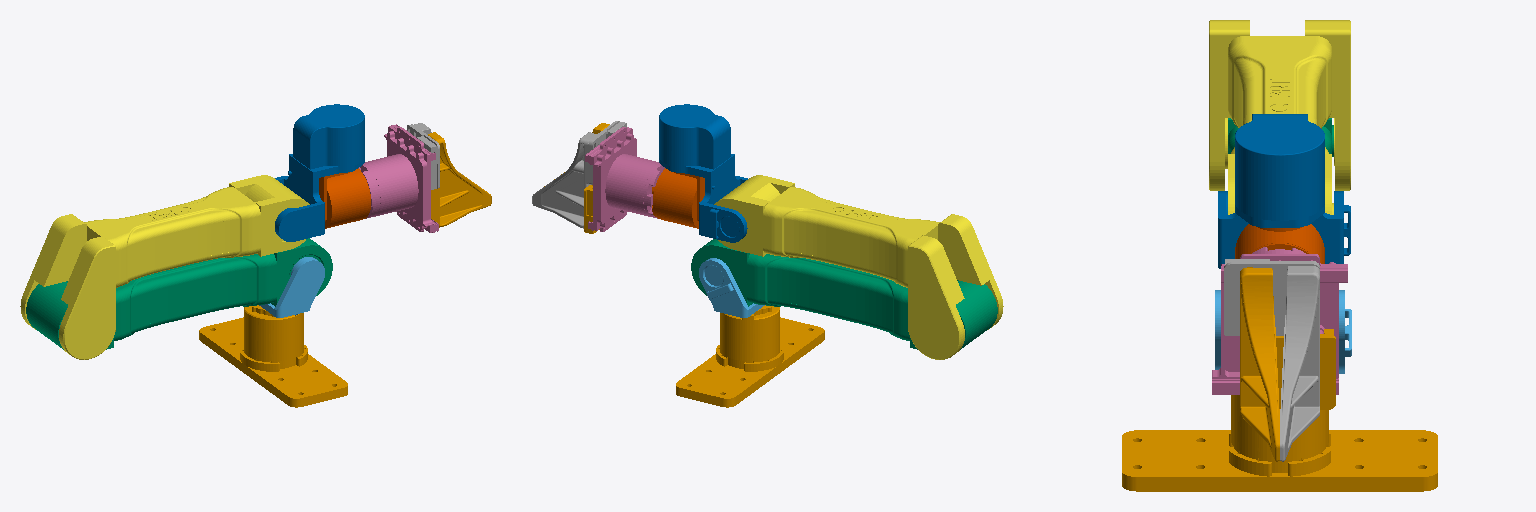
URDF robot description (i2rt_yam):
<?xml version="1.0" ?>
<robot name="i2rt_yam">
   <!--generated with mjcf_urdf_simple_converter (https://github.com/Yasu31/mjcf_urdf_simple_converter)-->
   <!-- Further modified by https://github.com/stonet2000 to be simulation ready / maniskill compatible -->
   <link name="arm">
      <inertial>
         <origin xyz="0.0 0.0 0.026" rpy="0.0 0.0 0.0"/>
         <mass value="0.21895644158459424"/>
         <inertia ixx="0.00013879124248906134" iyy="0.00013879124248906134" izz="0.00010282878735692499" ixy="0" ixz="0" iyz="0"/>
      </inertial>
      <visual name="arm_visual">
         <!-- z-value was originally 0.01154286287615687 -->
         <origin xyz="-2.0738360577213484e-05 2.041311002275178e-05 0.023085726" rpy="1.5701130102263443 0.005344186766800929 -3.1414365496107033"/>
         <geometry>
            <mesh filename="meshes/arm.obj"/>
         </geometry>
      </visual>
      <collision name="arm_collision">
         <origin xyz="-2.0738360577213484e-05 2.041311002275178e-05 0.023085726" rpy="0 0.005344186766800929 -3.1414365496107033"/>
         <geometry>
            <cylinder radius="0.033" length="0.097728589"/>
         </geometry>
      </collision>
   </link>
   <link name="link_1">
      <inertial>
         <origin xyz="-0.00192861 -0.00795735 0.0208176" rpy="1.6743480392523336 -0.6015439689011489 1.5666873963753192"/>
         <mass value="0.12415"/>
         <inertia ixx="0.000180751" iyy="0.000145532" izz="5.89179e-05" ixy="0" ixz="0" iyz="0"/>
      </inertial>
      <visual name="link_1_visual">
         <origin xyz="0.0007117901440024366 -0.008267794027987337 0.022250179687008112" rpy="1.5650454550240567 -0.6317582807873866 1.5710673633815686"/>
         <geometry>
            <mesh filename="meshes/link_1.obj"/>
         </geometry>
      </visual>
      <collision name="link_1_collision">
         <origin xyz="0.0007117901440024366 -0.008267794027987337 0.022250179687008112" rpy="1.5650454550240567 -0.6317582807873866 1.5710673633815686"/>
         <geometry>
            <mesh filename="meshes/link_1.obj"/>
         </geometry>
      </collision>
   </link>
   <joint type="revolute" name="joint1">
      <parent link="arm"/>
      <child link="link_1"/>
      <origin xyz="0.0 0.0 0.074642863" rpy="0.0 0.0 1.5707963267948963"/>
      <axis xyz="0.0 0.0 1.0"/>
      <limit lower="-2.61799" upper="3.05433" effort="100" velocity="100"/>
   </joint>
   <link name="link_2">
      <inertial>
         <origin xyz="0.132008 2.10599e-06 0.000293073" rpy="1.5707963267948966 0.0 1.5707963267948966"/>
         <mass value="1.24434"/>
         <inertia ixx="0.0121902" iyy="0.0121318" izz="0.000683304" ixy="0" ixz="0" iyz="0"/>
      </inertial>
      <visual name="link_2_visual_1">
         <origin xyz="0.26007948449650414 2.5977632368834325e-07 0.00022869283697025413" rpy="0.0012886015838013964 0.0 1.5707963267948966"/>
         <geometry>
            <mesh filename="meshes/link_2_1.obj"/>
         </geometry>
      </visual>
      <visual name="link_2_visual_2">
         <origin xyz="0.003920561027152974 2.5977629421192194e-07 0.00022869282878015162" rpy="-0.0012886020855807923 0.0 1.5707963267948966"/>
         <geometry>
            <mesh filename="meshes/link_2_2.obj"/>
         </geometry>
      </visual>
      <visual name="link_2_visual_3">
         <origin xyz="0.1320117461361114 -1.306943646950387e-05 9.079293692478702e-08" rpy="1.5720341600620278 -1.5679213575591913 -1.5720413321414013"/>
         <geometry>
            <mesh filename="meshes/link_2_3.obj"/>
         </geometry>
      </visual>
      <collision name="link_2_collision_1">
         <origin xyz="0.26007948449650414 2.5977632368834325e-07 0.00022869283697025413" rpy="0.0012886015838013964 0.0 1.5707963267948966"/>
         <geometry>
            <mesh filename="meshes/link_2_1.obj"/>
         </geometry>
      </collision>
      <collision name="link_2_collision_2">
         <origin xyz="0.003920561027152974 2.5977629421192194e-07 0.00022869282878015162" rpy="-0.0012886020855807923 0.0 1.5707963267948966"/>
         <geometry>
            <mesh filename="meshes/link_2_2.obj"/>
         </geometry>
      </collision>
      <collision name="link_2_collision_3">
         <origin xyz="0.1320117461361114 -1.306943646950387e-05 9.079293692478702e-08" rpy="1.5720341600620278 -1.5679213575591913 -1.5720413321414013"/>
         <geometry>
            <mesh filename="meshes/link_2_3.obj"/>
         </geometry>
      </collision>
   </link>
   <joint type="revolute" name="joint2">
      <parent link="link_1"/>
      <child link="link_2"/>
      <origin xyz="2.5e-05 -0.02 0.0409" rpy="1.5707963267948966 0.0 1.5707963267948966"/>
      <axis xyz="0.0 0.0 1.0"/>
      <limit lower="0.0" upper="3.66519" effort="100" velocity="100"/>
   </joint>
   <link name="link_3">
      <inertial>
         <origin xyz="-0.121816 -0.054846 -0.000111108" rpy="1.5707963267948966 0.0 1.5707963267948966"/>
         <mass value="0.853698"/>
         <inertia ixx="0.00699732" iyy="0.00696112" izz="0.000788244" ixy="0" ixz="0" iyz="0"/>
      </inertial>
      <visual name="link_3_visual_1">
         <origin xyz="-0.24063976713274154 -0.059999782142154706 -0.003760273578300405" rpy="3.0364915071378875 0.0 -1.570796326794897"/>
         <geometry>
            <mesh filename="meshes/link_3_1.obj"/>
         </geometry>
      </visual>
      <visual name="link_3_visual_2">
         <origin xyz="-0.007710009148021196 -0.03486048010433765 0.0347071645682882" rpy="-2.8787900674372295 1.4720957652931412 1.6013719605643308"/>
         <geometry>
            <mesh filename="meshes/link_3_2.obj"/>
         </geometry>
      </visual>
      <visual name="link_3_visual_3">
         <origin xyz="-0.1206720859561709 -0.06001334031535149 5.408345552423209e-07" rpy="1.5707945314613085 0.0026832997041226214 -1.570809065297576"/>
         <geometry>
            <mesh filename="meshes/link_3_3.obj"/>
         </geometry>
      </visual>
      <visual name="link_3_visual_4">
         <origin xyz="-0.008240431625057998 -0.03737256683266851 -0.033699619180835645" rpy="0.2883614312261503 1.443690062944694 -1.515041718980295"/>
         <geometry>
            <mesh filename="meshes/link_3_4.obj"/>
         </geometry>
      </visual>
      <collision name="link_3_collision_1">
         <origin xyz="-0.24063976713274154 -0.059999782142154706 -0.003760273578300405" rpy="3.0364915071378875 0.0 -1.570796326794897"/>
         <geometry>
            <mesh filename="meshes/link_3_1.obj"/>
         </geometry>
      </collision>
      <collision name="link_3_collision_2">
         <origin xyz="-0.007710009148021196 -0.03486048010433765 0.0347071645682882" rpy="-2.8787900674372295 1.4720957652931412 1.6013719605643308"/>
         <geometry>
            <mesh filename="meshes/link_3_2.obj"/>
         </geometry>
      </collision>
      <collision name="link_3_collision_3">
         <origin xyz="-0.1206720859561709 -0.06001334031535149 5.408345552423209e-07" rpy="1.5707945314613085 0.0026832997041226214 -1.570809065297576"/>
         <geometry>
            <mesh filename="meshes/link_3_3.obj"/>
         </geometry>
      </collision>
      <collision name="link_3_collision_4">
         <origin xyz="-0.008240431625057998 -0.03737256683266851 -0.033699619180835645" rpy="0.2883614312261503 1.443690062944694 -1.515041718980295"/>
         <geometry>
            <mesh filename="meshes/link_3_4.obj"/>
         </geometry>
      </collision>
   </link>
   <joint type="revolute" name="joint3">
      <parent link="link_2"/>
      <child link="link_3"/>
      <origin xyz="0.264 0.0 0.0" rpy="3.141592653589793 0.0 0.0"/>
      <axis xyz="0.0 0.0 1.0"/>
      <limit lower="0.0" upper="3.66519" effort="100" velocity="100"/>
   </joint>
   <link name="link_4">
      <inertial>
         <origin xyz="-0.0769778 -0.0527104 0.000154878" rpy="1.5707963267948966 0.0 -0.6801532411309218"/>
         <mass value="0.463511"/>
         <inertia ixx="0.000791532" iyy="0.000744733" izz="0.000282116" ixy="0" ixz="0" iyz="0"/>
      </inertial>
      <visual name="link_4_visual">
         <origin xyz="-0.046776068687813616 -0.038270471745625256 -0.0008915243508352188" rpy="1.5394854457020646 0.021662003917253037 -0.7117475435376934"/>
         <geometry>
            <mesh filename="meshes/link_4.obj"/>
         </geometry>
      </visual>
      <collision name="link_4_collision">
         <origin xyz="-0.073 -0.067 0.0" rpy="1.5707963267948966 0.0 0.0"/>
         <geometry>
            <cylinder radius="0.03" length="0.05"/>
         </geometry>
      </collision>
   </link>
   <joint type="revolute" name="joint4">
      <parent link="link_3"/>
      <child link="link_4"/>
      <origin xyz="-0.245 -0.06 0.0" rpy="0.0 0.0 0.0"/>
      <axis xyz="0.0 0.0 1.0"/>
      <limit lower="-1.5708" upper="1.5708" effort="100" velocity="100"/>
   </joint>
   <link name="link_5">
      <inertial>
         <origin xyz="3.64861e-05 0.00025665 0.0353526" rpy="0.0 0.0 0.0"/>
         <mass value="0.350962"/>
         <inertia ixx="0.000197802" iyy="0.0001775" izz="0.000147402" ixy="0" ixz="0" iyz="0"/>
      </inertial>
      <visual name="link_5_visual">
         <origin xyz="5.815639855540116e-05 -0.0005553836621680353 0.03206235288381598" rpy="2.67318045036048 0.0016544870659682687 -0.011529382184967352"/>
         <geometry>
            <mesh filename="meshes/link_5.obj"/>
         </geometry>
      </visual>
      <collision name="link_5_collision">
         <origin xyz="0.0 0.0 0.0395" rpy="1.5707963267948966 0.0 0.0"/>
         <geometry>
            <cylinder radius="0.03" length="0.05"/>
         </geometry>
      </collision>
   </link>
   <joint type="revolute" name="joint5">
      <parent link="link_4"/>
      <child link="link_5"/>
      <origin xyz="-0.074 -0.0395 2.5e-05" rpy="-1.5707963267948966 1.5707963267948966 0.0"/>
      <axis xyz="0.0 0.0 1.0"/>
      <limit lower="-1.5708" upper="1.5708" effort="100" velocity="100"/>
   </joint>
   <link name="link_6">
      <inertial>
         <origin xyz="-0.000217767 7.37059e-05 0.0270545" rpy="1.5707963267948963 0.0 0.0"/>
         <mass value="0.367476"/>
         <inertia ixx="0.000265958" iyy="0.000242686" izz="0.000227409" ixy="0" ixz="0" iyz="0"/>
      </inertial>
      <visual name="link_6_visual">
         <origin xyz="8.788302043375991e-05 0.0001190912220788709 0.05116721790419726" rpy="-1.745366888758472 1.5654909718508199 -1.969912540567698"/>
         <geometry>
            <mesh filename="meshes/link_6_1.obj"/>
         </geometry>
      </visual>
      <visual name="link_6_visual">
         <origin xyz="-0.00017825474995774047 1.6195054943213272e-05 0.03422382038141725" rpy="-1.5799559470247644 0.8170286688385331 -0.14641337505452368"/>
         <geometry>
            <mesh filename="meshes/link_6_2.obj"/>
         </geometry>
      </visual>
      <collision name="link_6_collision">
         <!-- <origin xyz="8.788302043375991e-05 0.0001190912220788709 0.05116721790419726" rpy="-1.745366888758472 1.5654909718508199 -1.969912540567698"/>
         <geometry>
            <mesh filename="meshes/converted_model2__12_404040ff.obj"/>
         </geometry> -->
         <origin xyz="0.0 0.0 0.017" rpy="0 0.0 0.0"/>
         <geometry>
            <cylinder radius="0.03" length="0.055"/>
         </geometry>
      </collision>
      <!-- this is internal -->
      <!-- <collision name="link_6_collision">
         <origin xyz="-0.00017825474995774047 1.6195054943213272e-05 0.03422382038141725" rpy="-1.5799559470247644 0.8170286688385331 -0.14641337505452368"/>
         <geometry>
            <mesh filename="meshes/converted_model2__13_404040ff.obj"/>
         </geometry>
      </collision> -->
   </link>
   <joint type="revolute" name="joint6">
      <parent link="link_5"/>
      <child link="link_6"/>
      <origin xyz="0.0 0.0353 0.0395" rpy="-1.5707963267948957 0.0 0.0"/>
      <axis xyz="0.0 0.0 1.0"/>
      <limit lower="-2.0944" upper="2.0944" effort="100" velocity="100"/>
   </joint>
   <link name="link_left_finger">
      <inertial>
         <origin xyz="-0.0192995 -0.0365902 0.039774" rpy="1.401155911297378 -0.506095322833723 -0.42940521230428"/>
         <mass value="0.118"/>
         <inertia ixx="0.000159084" iyy="0.000154909" izz="4.63655e-05" ixy="0" ixz="0" iyz="0"/>
      </inertial>
      <visual name="link_left_finger_visual_1">
         <origin xyz="-0.02621919095860112 -0.050961301789609365 0.04847966761952425" rpy="1.2436149090470108 -1.3351755324428625 3.1192068678405445"/>
         <geometry>
            <mesh filename="meshes/link_left_finger_1.obj"/>
         </geometry>
      </visual>
      <visual name="link_left_finger_visual_2">
         <origin xyz="-0.0018267628293356375 -0.014013453565219658 0.02860778296204746" rpy="-0.08499655397451025 -0.08210615684708134 0.012014286826329143"/>
         <geometry>
            <mesh filename="meshes/link_left_finger_2.obj"/>
         </geometry>
      </visual>
      <collision name="link_left_finger_collision_1">
         <origin xyz="-0.02621919095860112 -0.050961301789609365 0.04847966761952425" rpy="1.2436149090470108 -1.3351755324428625 3.1192068678405445"/>
         <geometry>
            <mesh filename="meshes/link_left_finger_1.obj"/>
         </geometry>
      </collision>
      <collision name="link_left_finger_collision_2">
         <origin xyz="-0.0018267628293356375 -0.014013453565219658 0.02860778296204746" rpy="-0.08499655397451025 -0.08210615684708134 0.012014286826329143"/>
         <geometry>
            <mesh filename="meshes/link_left_finger_2.obj"/>
         </geometry>
      </collision>
   </link>
   <joint type="prismatic" name="left_finger">
      <parent link="link_6"/>
      <child link="link_left_finger"/>
      <origin xyz="-0.037 0.0392 0.0605" rpy="-0.0 1.5707963267948966 0.0"/>
      <axis xyz="0 0 1"/>
      <limit lower="0.0" upper="0.041" />
   </joint>
   <link name="link_right_finger">
      <inertial>
         <origin xyz="-0.0192995 0.0365902 -0.039774" rpy="-1.401155911297378 0.506095322833723 -0.42940521230428"/>
         <mass value="0.118"/>
         <inertia ixx="0.000159084" iyy="0.000154909" izz="4.63655e-05" ixy="0" ixz="0" iyz="0"/>
      </inertial>
      <visual name="link_right_finger_visual_1">
         <origin xyz="-0.001826763203738313 0.014013021507929144 -0.02860778467768097" rpy="-0.08499624911644796 0.08210615585822456 -0.012014239544932075"/>
         <geometry>
            <mesh filename="meshes/link_right_finger_1.obj"/>
         </geometry>
      </visual>
      <visual name="link_right_finger_visual_2">
         <origin xyz="-0.026152342123741346 0.026813733867866105 -0.04844908896546901" rpy="-1.8906094630983064 -1.3387155199773018 -0.013733131456833414"/>
         <geometry>
            <mesh filename="meshes/link_right_finger_2.obj"/>
         </geometry>
      </visual>
      <collision name="link_right_finger_collision_1">
         <origin xyz="-0.001826763203738313 0.014013021507929144 -0.02860778467768097" rpy="-0.08499624911644796 0.08210615585822456 -0.012014239544932075"/>
         <geometry>
            <mesh filename="meshes/link_right_finger_1.obj"/>
         </geometry>
      </collision>
      <collision name="link_right_finger_collision_2">
         <origin xyz="-0.026152342123741346 0.026813733867866105 -0.04844908896546901" rpy="-1.8906094630983064 -1.3387155199773018 -0.013733131456833414"/>
         <geometry>
            <mesh filename="meshes/link_right_finger_2.obj"/>
         </geometry>
      </collision>
   </link>
   <joint type="prismatic" name="right_finger">
      <parent link="link_6"/>
      <child link="link_right_finger"/>
      <origin xyz="0.037 -0.0392 0.0605" rpy="-0.0 1.5707963267948966 0.0"/>
      <axis xyz="0 0 -1"/>
      <limit lower="0.0" upper="0.041" />
      <mimic joint="left_finger"/>
   </joint>
</robot>

--- What the picture shows (computed from the rendered views, not written in the file) ---
The picture shows the robot from 3 angles, left to right: view 1: azimuth 30°, elevation 25°; view 2: azimuth 150°, elevation 25°; view 3: azimuth 270°, elevation 25°; orthographic projection.
Robot: i2rt_yam — 9 links, 8 joints (6 revolute, 2 prismatic); root link arm; default pose: all joints at 0.
Links seen in each view (by area): view 1: link_3, link_2, arm, link_4, link_6, link_right_finger, link_5, link_1, link_left_finger; view 2: link_3, link_2, arm, link_4, link_6, link_left_finger, link_5, link_1; view 3: arm, link_3, link_4, link_left_finger, link_right_finger, link_6, link_5, link_1, link_2.
Link boxes in pixels (x1,y1,x2,y2): link_3: (20, 175, 309, 359); link_2: (26, 238, 332, 349); arm: (199, 305, 347, 407); link_4: (275, 104, 364, 241); link_6: (359, 124, 438, 232); link_right_finger: (428, 132, 491, 227); link_5: (319, 168, 370, 228); link_1: (259, 257, 324, 317); link_left_finger: (407, 123, 479, 189); link_3: (714, 175, 1003, 359); link_2: (691, 239, 997, 349); arm: (676, 305, 824, 407); link_4: (659, 104, 747, 242); link_6: (585, 127, 664, 231); link_left_finger: (532, 121, 626, 228); link_5: (652, 168, 704, 228); link_1: (699, 258, 764, 317); arm: (1122, 395, 1437, 491); link_3: (1209, 20, 1350, 214); link_4: (1218, 114, 1350, 268); link_left_finger: (1224, 259, 1319, 461); link_right_finger: (1240, 267, 1335, 461); link_6: (1212, 247, 1347, 394); link_5: (1235, 224, 1324, 263); link_1: (1215, 290, 1351, 373); link_2: (1228, 118, 1333, 156).
Bounding box of the posed robot: 0.5326 × 0.2 × 0.2665 m (x, y, z).
17 mesh visuals loaded from 17 distinct referenced files (17 OBJ).
